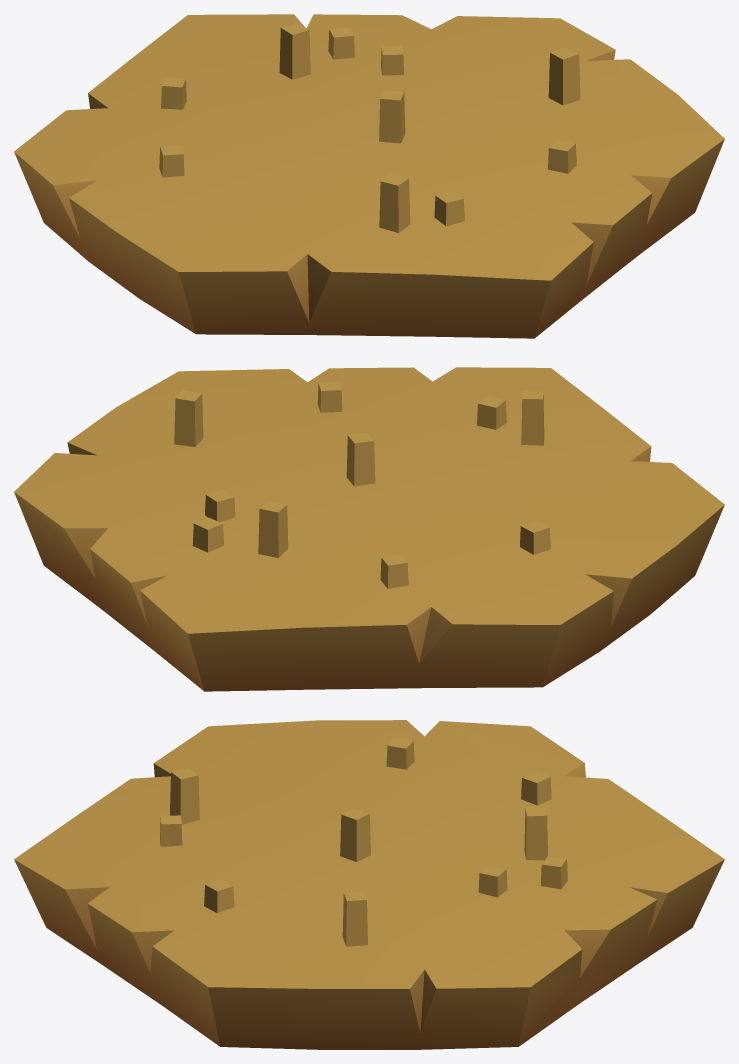
File: medieval-grain.glb
3 renders of one model, top to bottom at view 1: azimuth 30°, elevation 25°; view 2: azimuth 150°, elevation 25°; view 3: azimuth 270°, elevation 25°, orthographic. The views are drawn at different scales.
Visible parts, largest first — view 1: building_grain; view 2: building_grain; view 3: building_grain.
Part boxes in pixels (box(x1,y1,x2,y2)): building_grain: box(14, 14, 724, 338); building_grain: box(14, 367, 724, 691); building_grain: box(14, 720, 724, 1049).
Bounding box in the file's own units: 1.87 × 0.3938 × 2.09.
